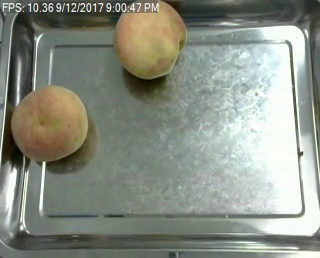Peach: (11, 84, 89, 162), (113, 0, 186, 79)
